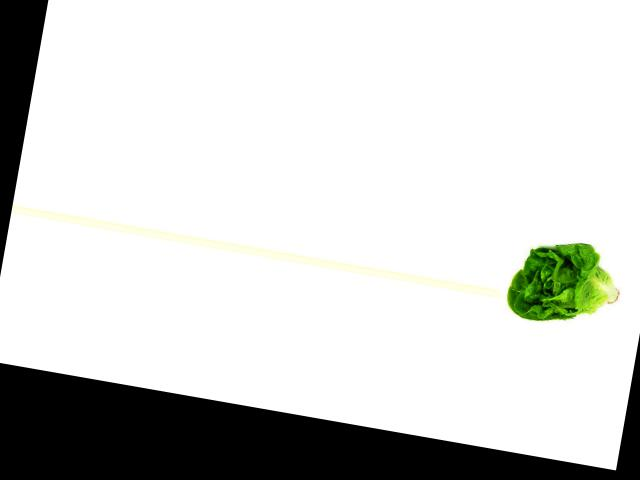lettuce: (503, 226, 631, 337)
